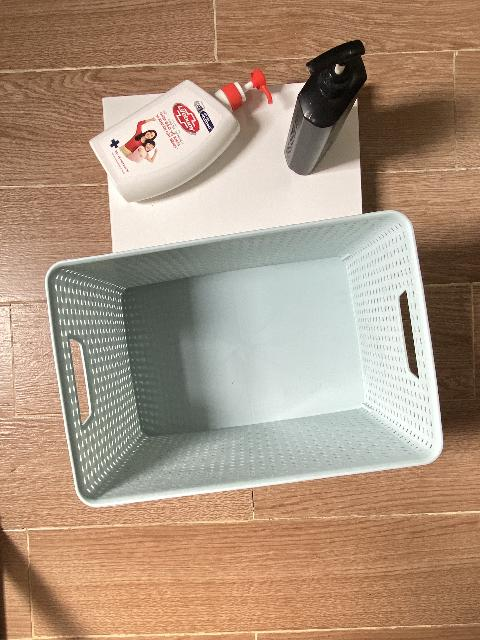X-men: (284, 40, 368, 176)
cart: (43, 211, 444, 509)
life-buoy: (89, 69, 273, 203)
